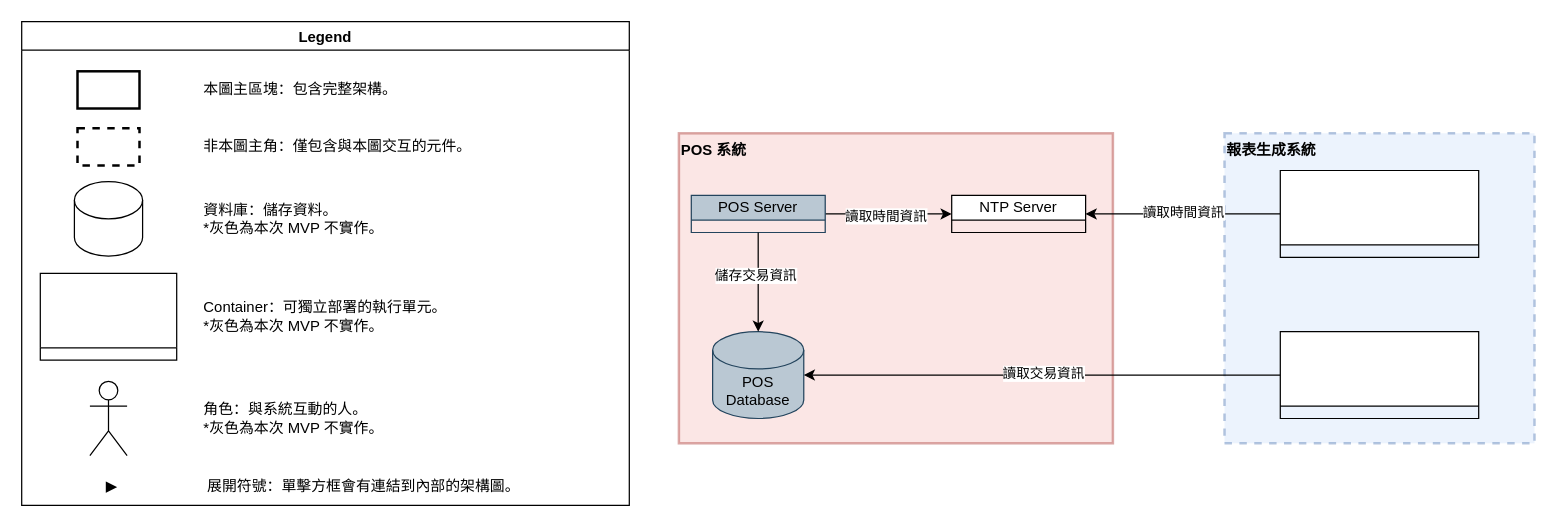
This 1557x527 diagram has some shape labels left out. Here are the shapes that lost their labels. From the top down, the centre of each, then its label:
point 1379,213: ▶ Video Service {AI Team} [地端, MVP] "去識別化影像並錄影"
point 108,316: Container Name {Owner} [Tag] "描述"
point 1379,374: ▶ AI Service {AI Team} [雲端, MVP] "將影像轉換成消費者行為"
